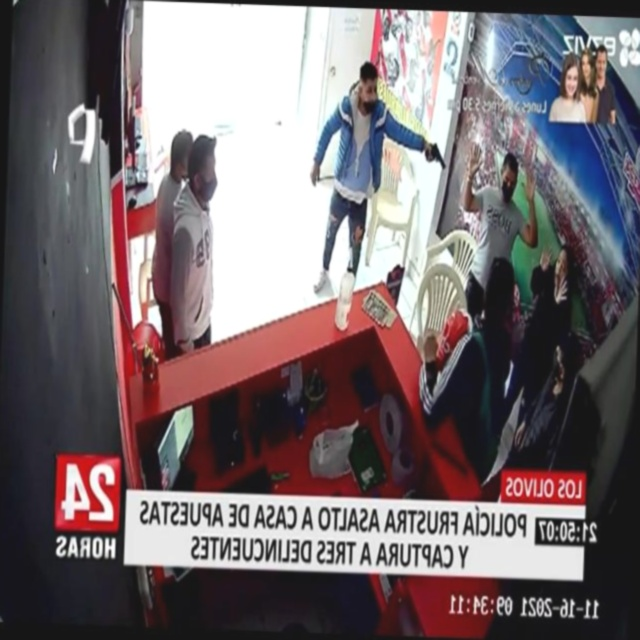gun: (420, 129, 452, 177)
